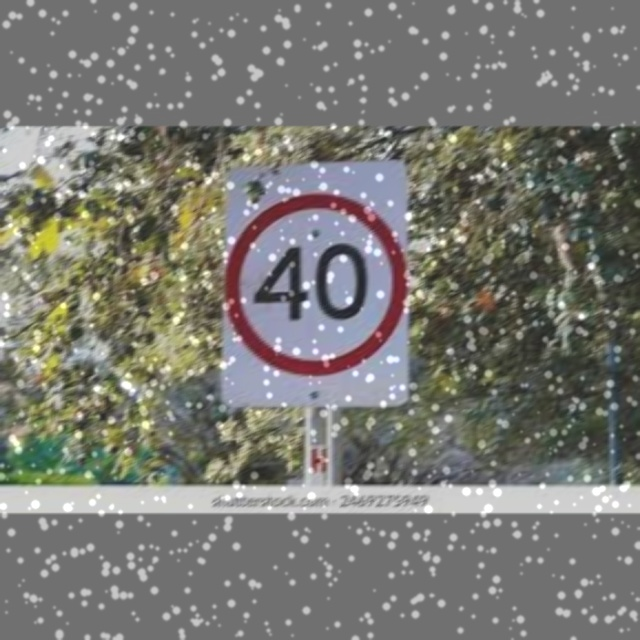Speed_Limit_40: (218, 194, 413, 379)
